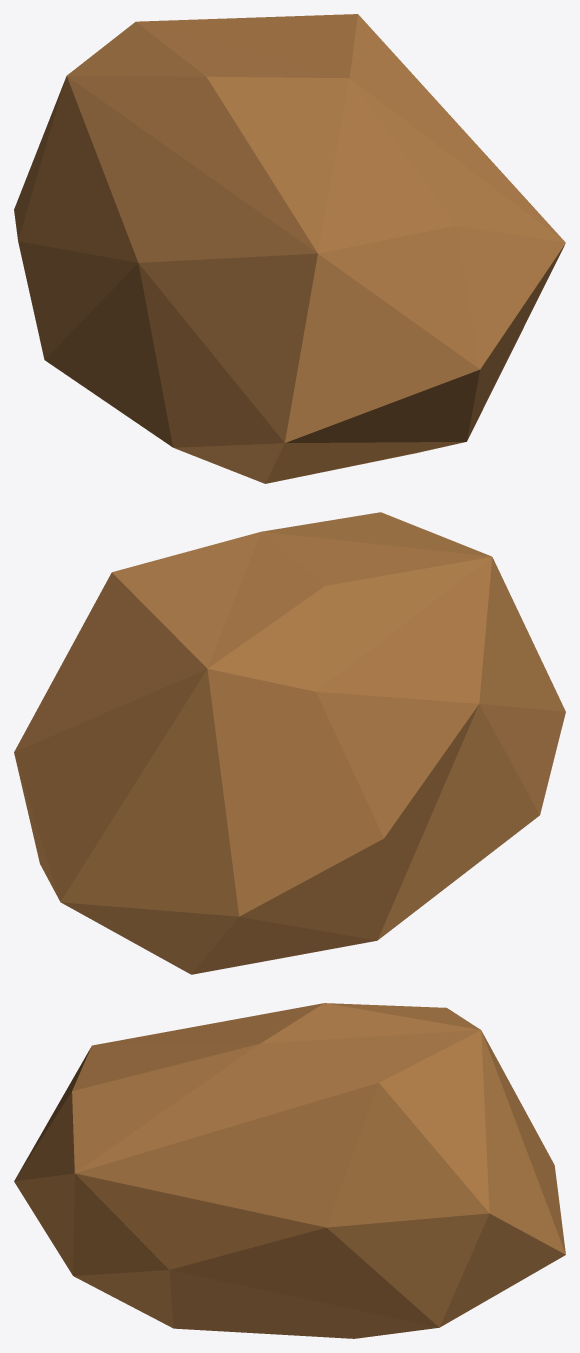
File: Rock_A_001.fbx
3 renders of one model, top to bottom at view 1: azimuth 30°, elevation 25°; view 2: azimuth 150°, elevation 25°; view 3: azimuth 270°, elevation 25°, orthographic. The views are drawn at different scales.
Parts seen in each view (by area): view 1: Rock A.001; view 2: Rock A.001; view 3: Rock A.001.
Part boxes in pixels (<box>): Rock A.001: <box>14,14,565,483</box>; Rock A.001: <box>14,512,565,974</box>; Rock A.001: <box>14,1003,565,1338</box>.
Bounding box in the file's own units: 25.46 × 23.13 × 39.84.
